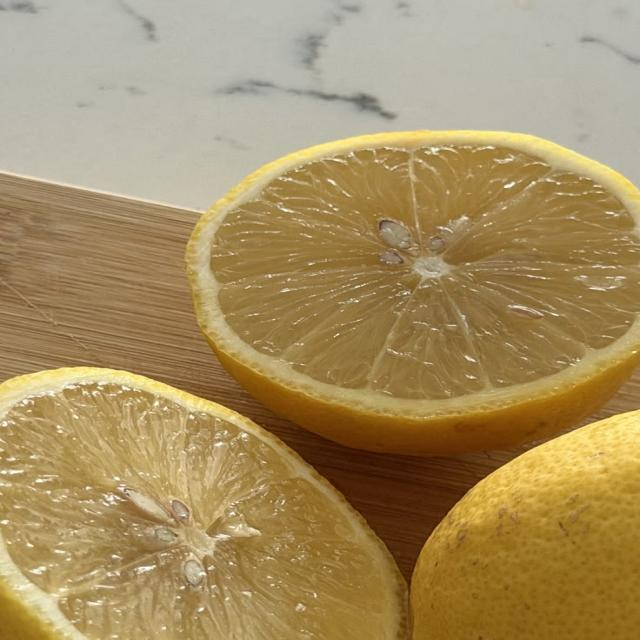lemon: (187, 132, 639, 454), (0, 368, 408, 639), (411, 412, 639, 639)
